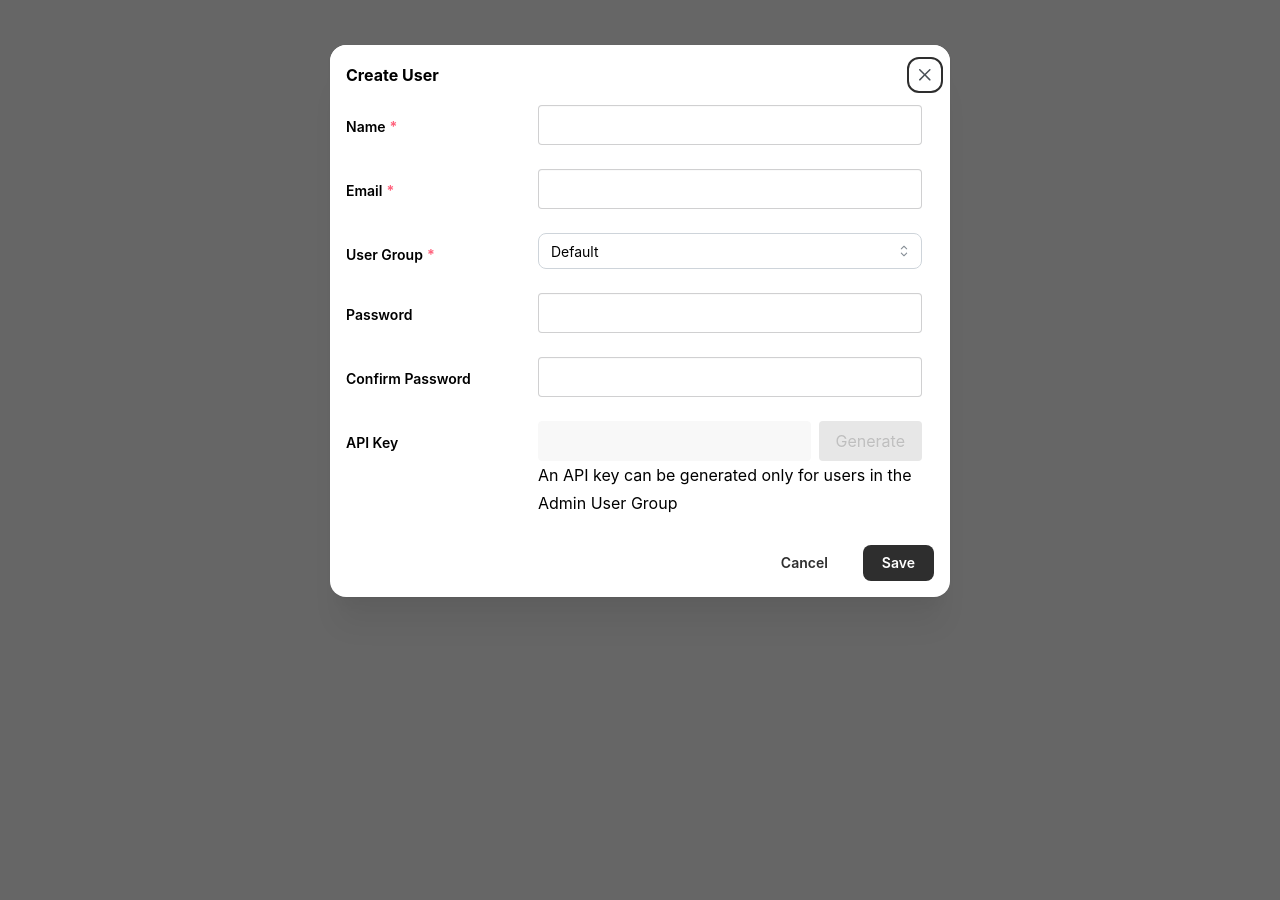
User Page › should generate a random API Key if user group admin is selected
Click the field labelled "User Group*" at x=730, y=251, box x1=538 y1=233 x2=922 y2=269
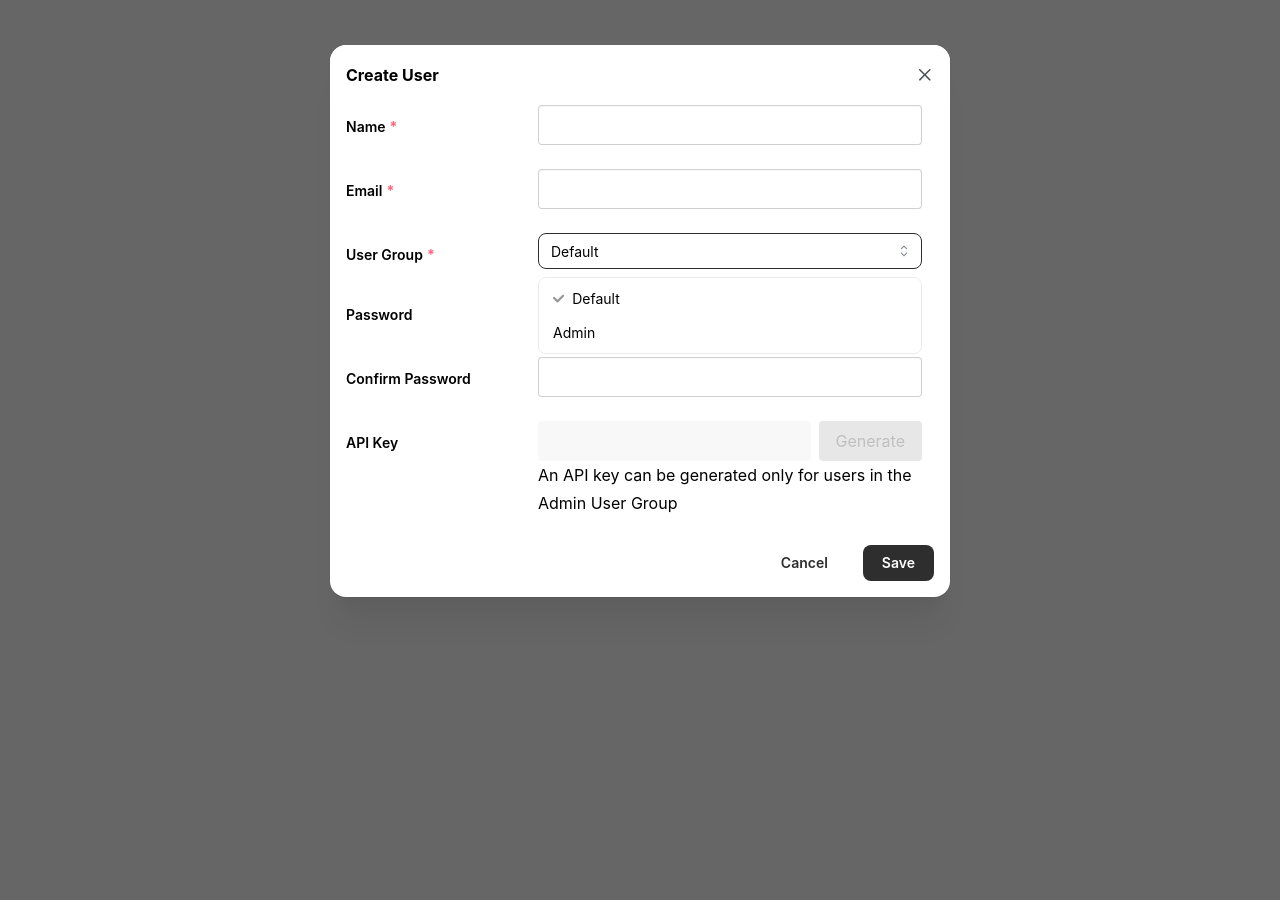
Click the option "Admin" at x=574, y=332, box x1=553 y1=324 x2=595 y2=341
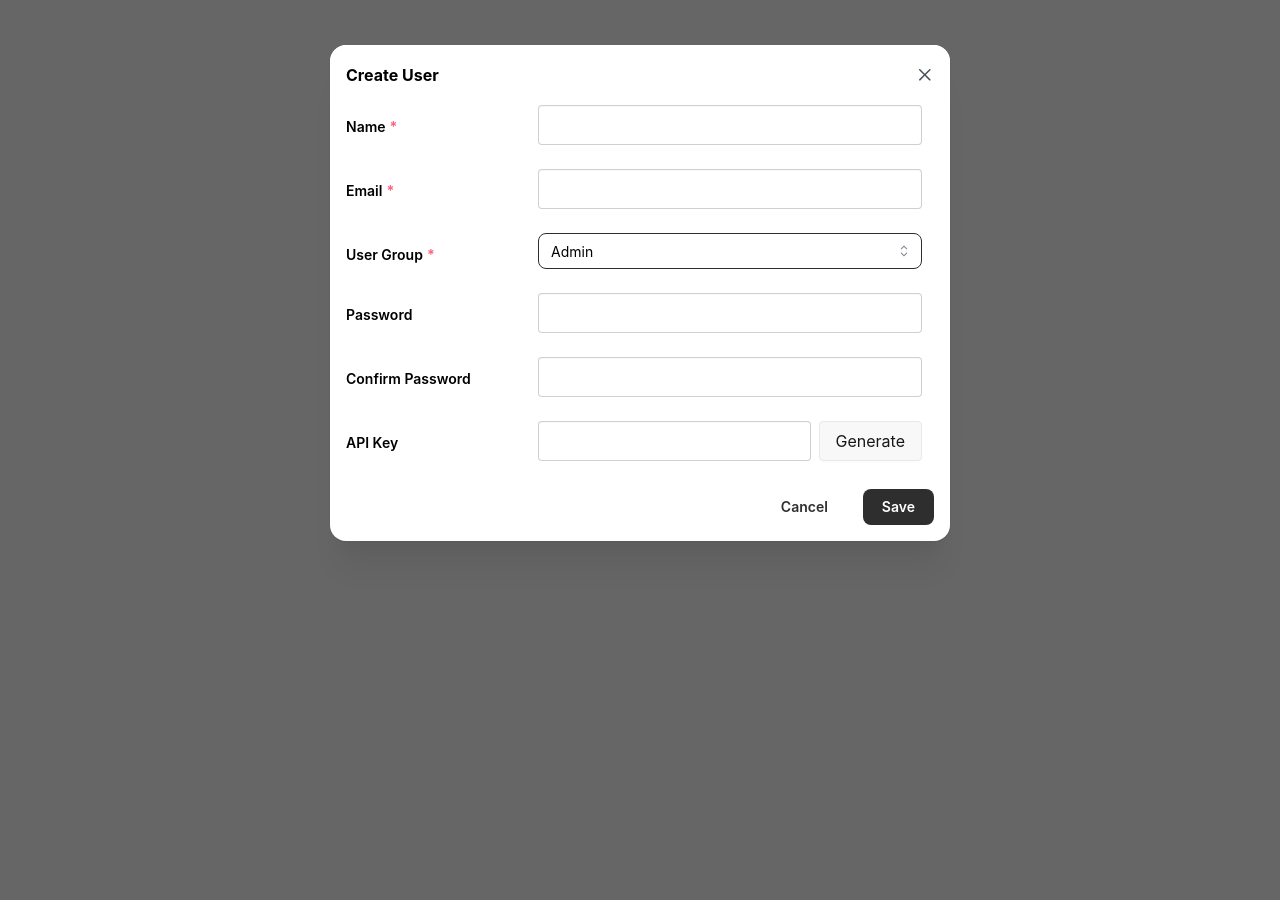
Click the button with aria-label "generate api key" at x=870, y=441, box x1=818 y1=421 x2=922 y2=461
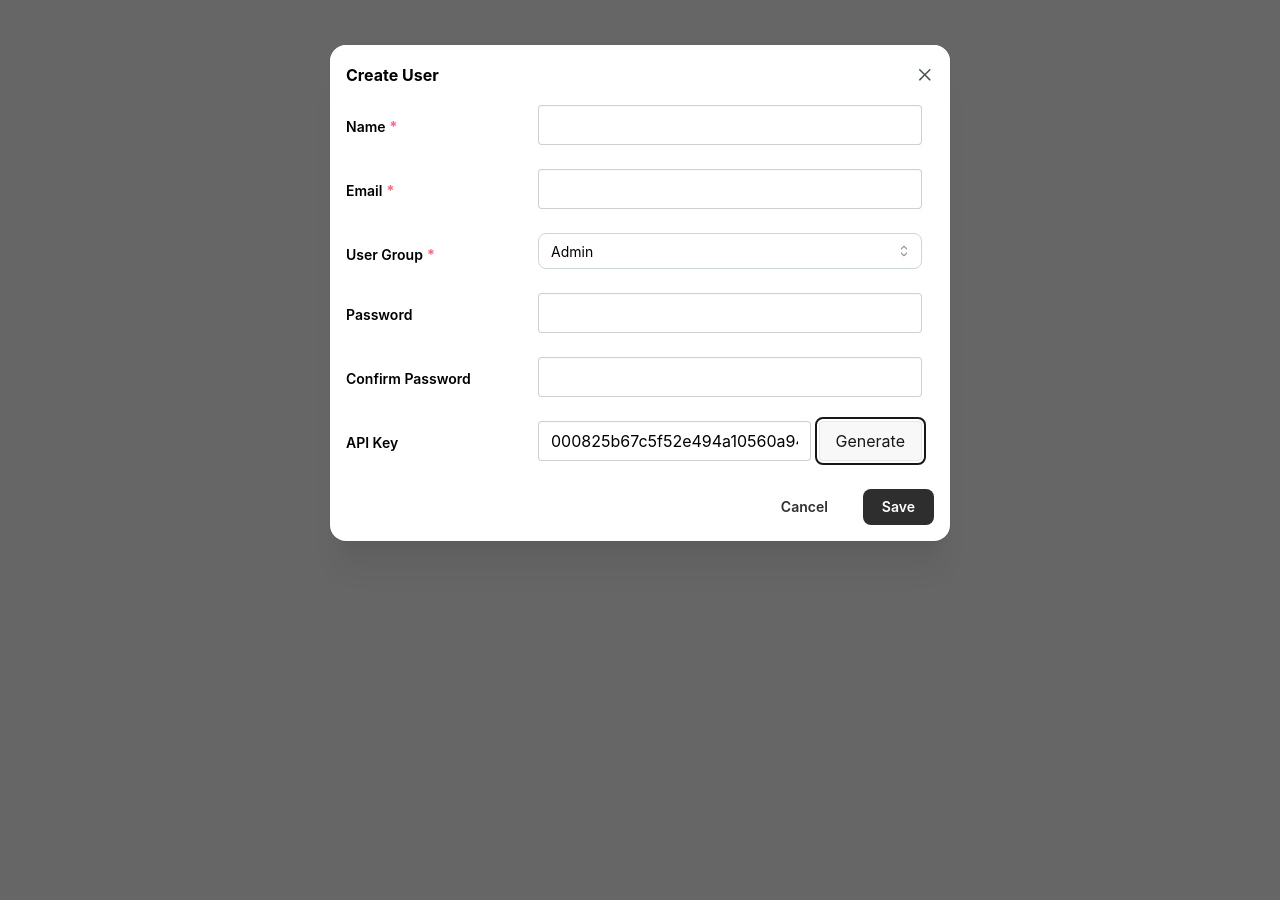
Expected: the field labelled "API Key" is not empty, x1=538 y1=421 x2=810 y2=461
